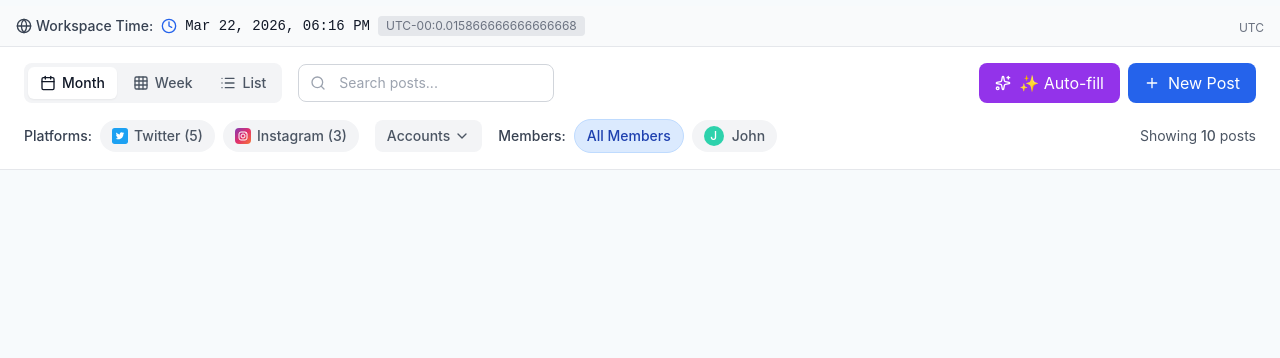
CalendarFilter › opens account dropdown when clicked
This screenshot has width=1280, height=358.
Click the button with test id "account-dropdown-trigger".
click(429, 136)  # box [375,120,482,152]
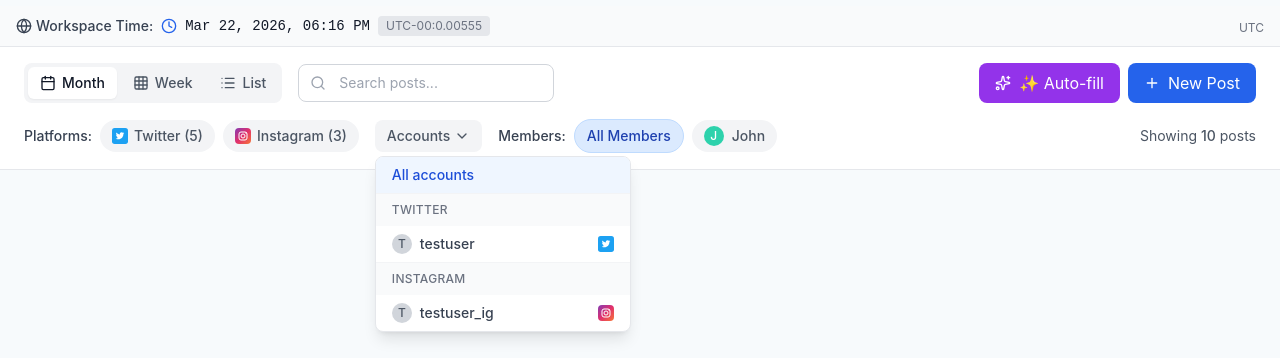
Result: the button with test id "all-accounts-option" is shown at [376,157,630,193]
Result: the button with test id "account-option-account1" is shown at [376,226,630,262]
